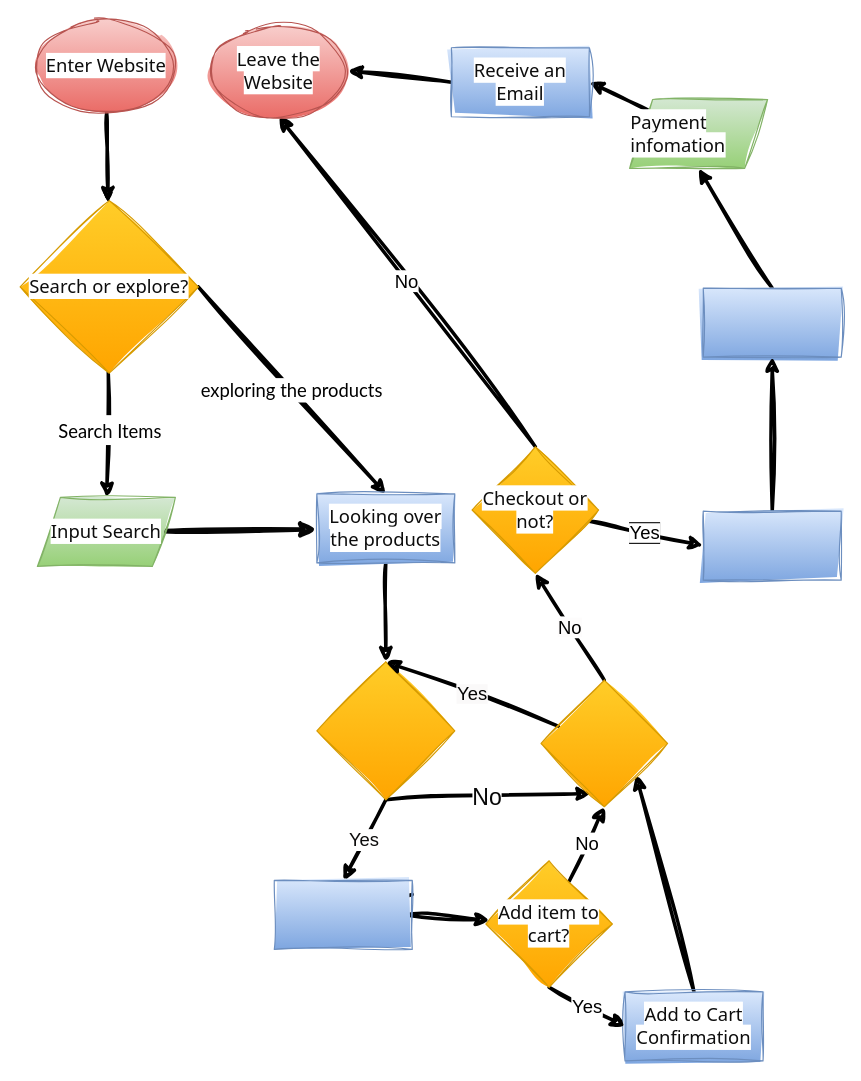
Some shapes in this 861 by 1081 pixel diagram are drawn without their labels. Each missing label, with the centre of its shape:
Continue shopping?: point (604, 743)
Product page: point (342, 914)
View Cart screen: point (771, 545)
View Payment screen: point (771, 322)
View specific product?: point (385, 730)
